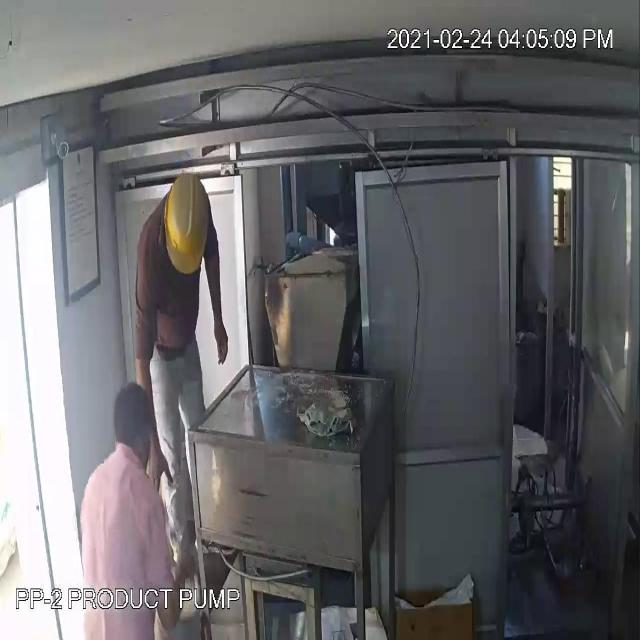hat: (162, 174, 210, 287)
